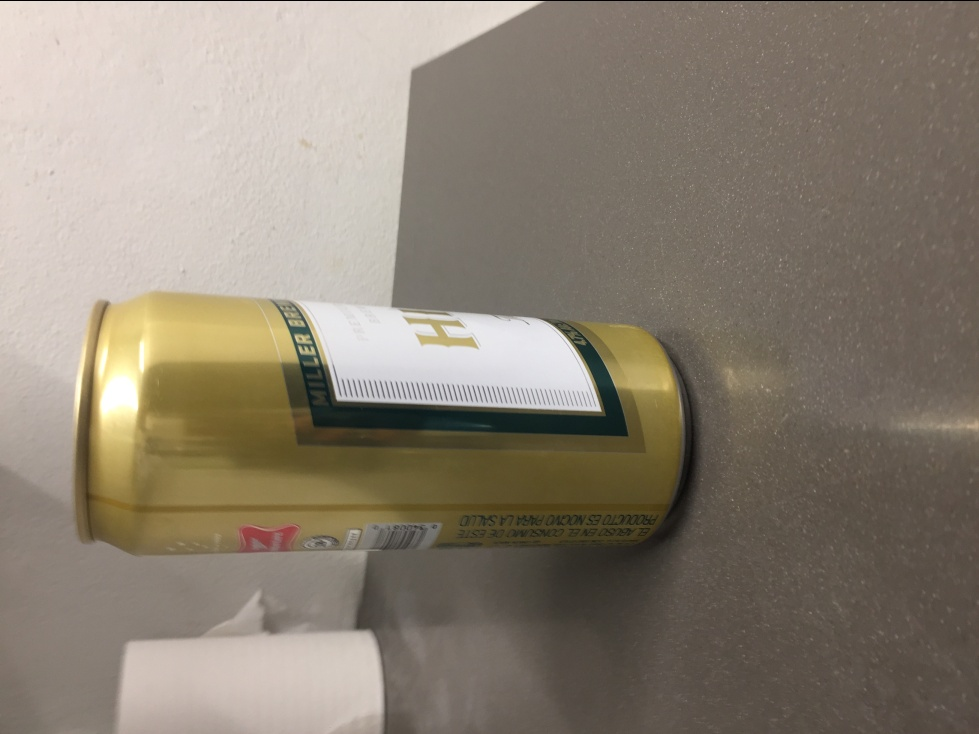miller: (66, 286, 695, 558)
